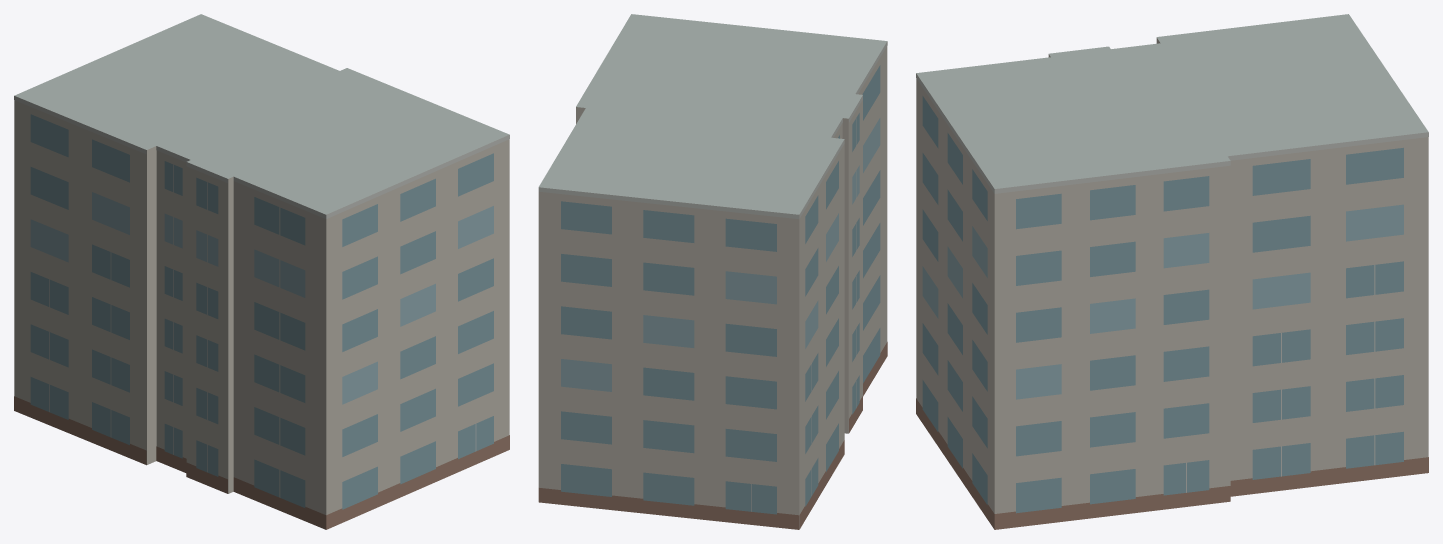
File: survey-upis-32966614.glb
3 renders of one model, left to right at view 1: azimuth 30°, elevation 25°; view 2: azimuth 150°, elevation 25°; view 3: azimuth 270°, elevation 25°, orthographic. The views are drawn at different scales.
Parts seen in each view (by area): view 1: survey-upis-32966614.tmp; view 2: survey-upis-32966614.tmp; view 3: survey-upis-32966614.tmp.
Part boxes in pixels (x1,y1,x2,y2): survey-upis-32966614.tmp: [14, 14, 509, 529]; survey-upis-32966614.tmp: [538, 14, 887, 529]; survey-upis-32966614.tmp: [916, 14, 1428, 529].
Size of the model in its own units: 19.19 by 17.4 by 23.73.
